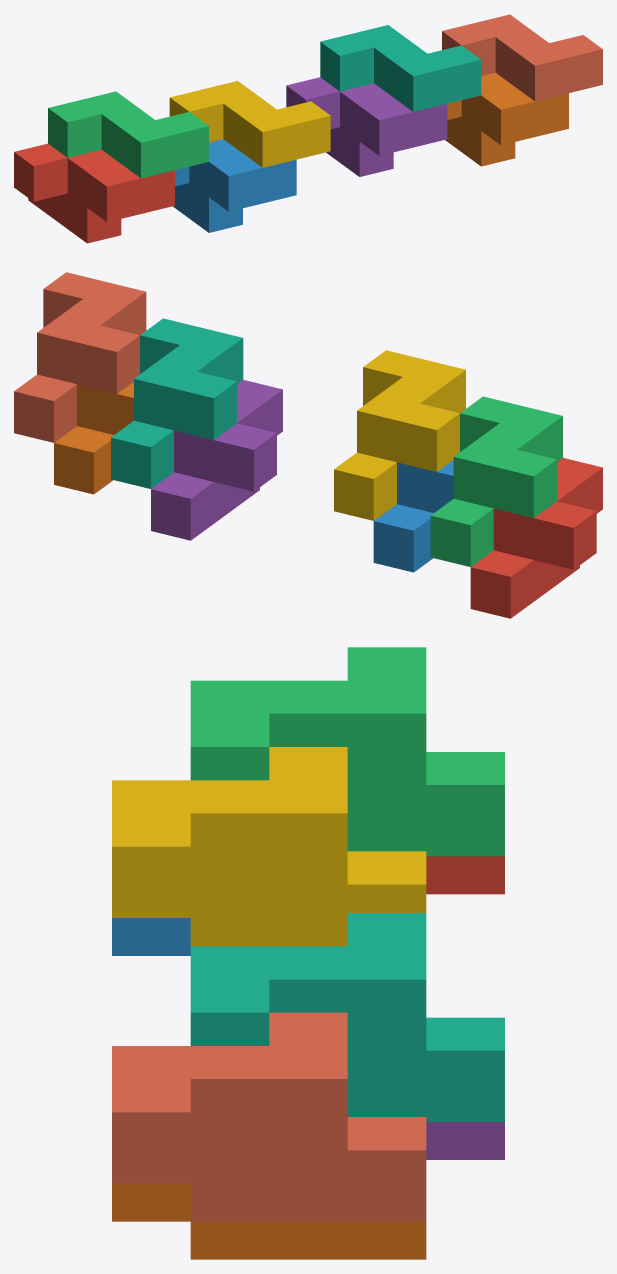
Rendered from tiling.obj.
The picture shows the model from 3 angles, top to bottom: view 1: azimuth 30°, elevation 25°; view 2: azimuth 150°, elevation 25°; view 3: azimuth 270°, elevation 25°; orthographic projection. The views are drawn at different scales.
Parts seen in each view (by area): view 1: copy_1_domain_1, copy_1_domain_7, copy_1_domain_3, copy_1_domain_5, copy_1_domain_4, copy_1_domain_8, copy_1_domain_6, copy_1_domain_2; view 2: copy_1_domain_3, copy_1_domain_7, copy_1_domain_8, copy_1_domain_4, copy_1_domain_1, copy_1_domain_5, copy_1_domain_2, copy_1_domain_6; view 3: copy_1_domain_8, copy_1_domain_4, copy_1_domain_3, copy_1_domain_7, copy_1_domain_6, copy_1_domain_1, copy_1_domain_2, copy_1_domain_5.
Boxes of the visible parts, <box> form: copy_1_domain_1: <box>14,143,174,243</box>; copy_1_domain_7: <box>320,25,481,111</box>; copy_1_domain_3: <box>48,91,208,178</box>; copy_1_domain_5: <box>286,77,447,176</box>; copy_1_domain_4: <box>169,81,330,167</box>; copy_1_domain_8: <box>442,14,602,101</box>; copy_1_domain_6: <box>445,73,568,166</box>; copy_1_domain_2: <box>173,139,296,232</box>; copy_1_domain_3: <box>430,396,562,566</box>; copy_1_domain_7: <box>111,318,243,488</box>; copy_1_domain_8: <box>14,272,146,442</box>; copy_1_domain_4: <box>334,350,465,520</box>; copy_1_domain_1: <box>470,458,602,618</box>; copy_1_domain_5: <box>151,379,282,540</box>; copy_1_domain_2: <box>373,460,453,572</box>; copy_1_domain_6: <box>54,382,133,494</box>; copy_1_domain_8: <box>112,1012,426,1221</box>; copy_1_domain_4: <box>112,747,426,946</box>; copy_1_domain_3: <box>190,647,504,856</box>; copy_1_domain_7: <box>190,913,504,1121</box>; copy_1_domain_6: <box>112,1183,426,1259</box>; copy_1_domain_1: <box>426,856,504,894</box>; copy_1_domain_2: <box>112,918,190,955</box>; copy_1_domain_5: <box>426,1122,504,1159</box>.
Size of the model in its own units: 15 by 3 by 5.
